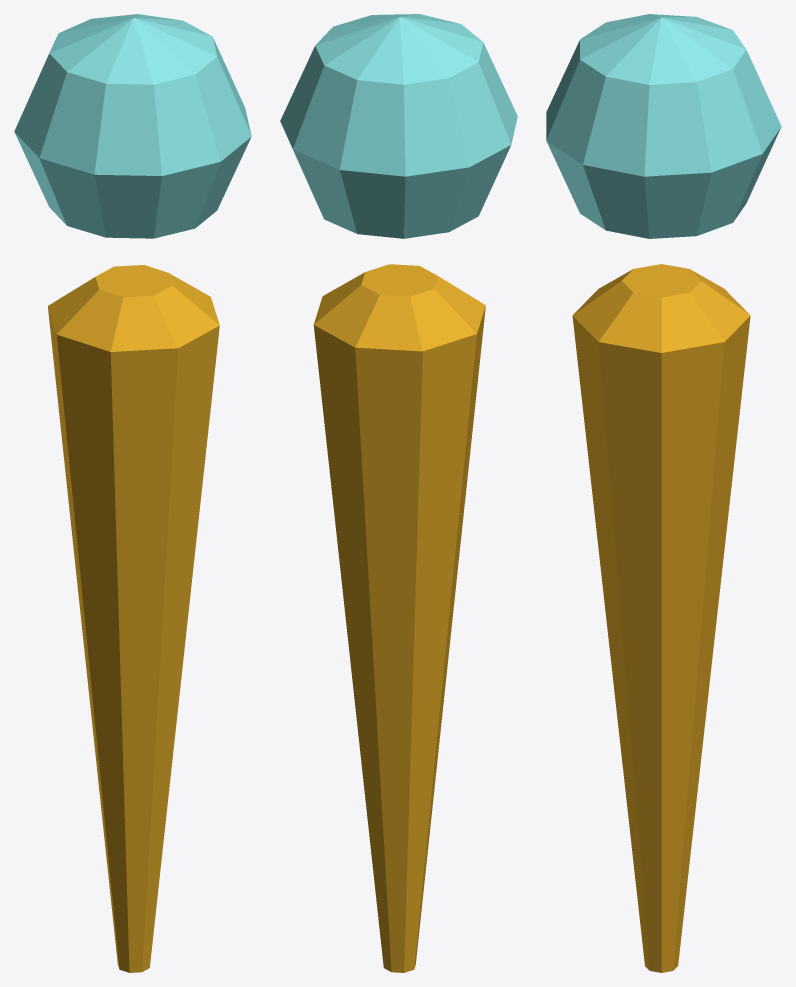
3 renders of one model, left to right at view 1: azimuth 30°, elevation 25°; view 2: azimuth 150°, elevation 25°; view 3: azimuth 270°, elevation 25°, orthographic.
Parts seen in each view (by area): view 1: 球; view 2: 球; view 3: 球.
Boxes of the visible parts, <box> form: 球: <box>14,14,251,972</box>; 球: <box>280,14,517,972</box>; 球: <box>546,14,781,972</box>.
Bounding box in the file's own units: 198 × 871 × 196.
